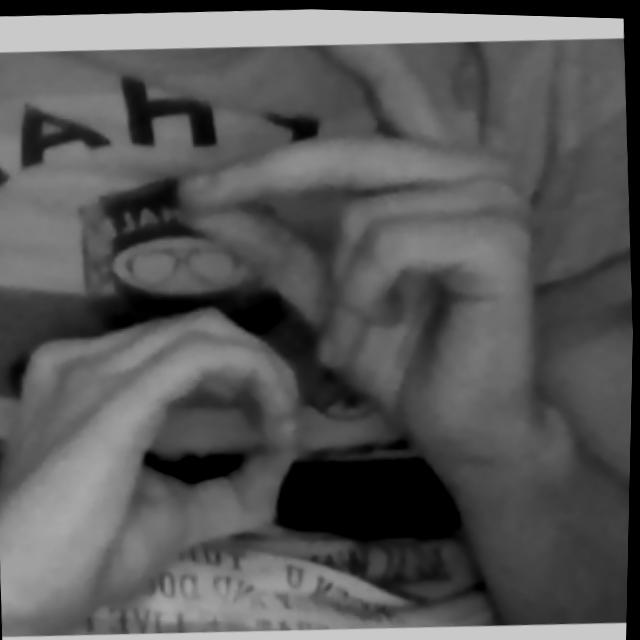O--: (0, 26, 562, 640)
